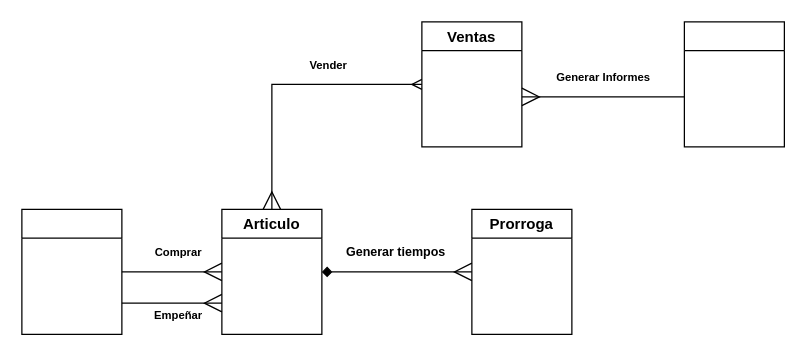
The diagram is 806 pixels wide and 356 high, and some of its shapes have lost their labels. Here are the shapes that lost their labels. From the top down, the box of each, then its label:
(683, 21, 784, 147): Informes
(21, 208, 122, 334): Cliente
